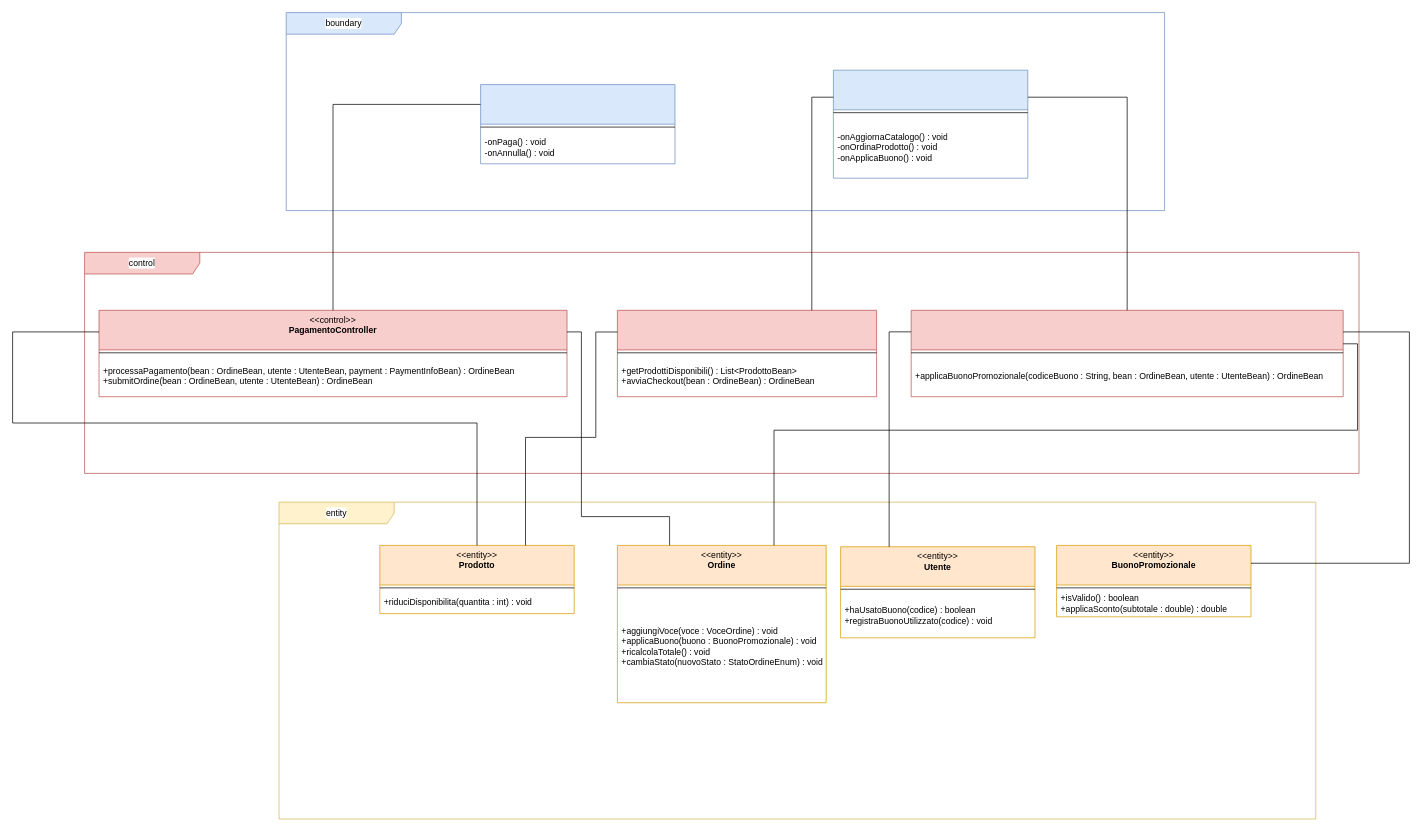
This 1423x832 diagram has some shape labels left out. Each missing label, with the box of its shape:
<<boundary>> utenteOrdinaProdotto: (833, 69, 1028, 178)
<<boundary>> utentePagaordine: (480, 84, 675, 164)
<<control>> ApplicaBuonoPromozionaleController: (910, 310, 1343, 397)
<<control>> OrdinaProdottoController: (617, 310, 877, 397)
